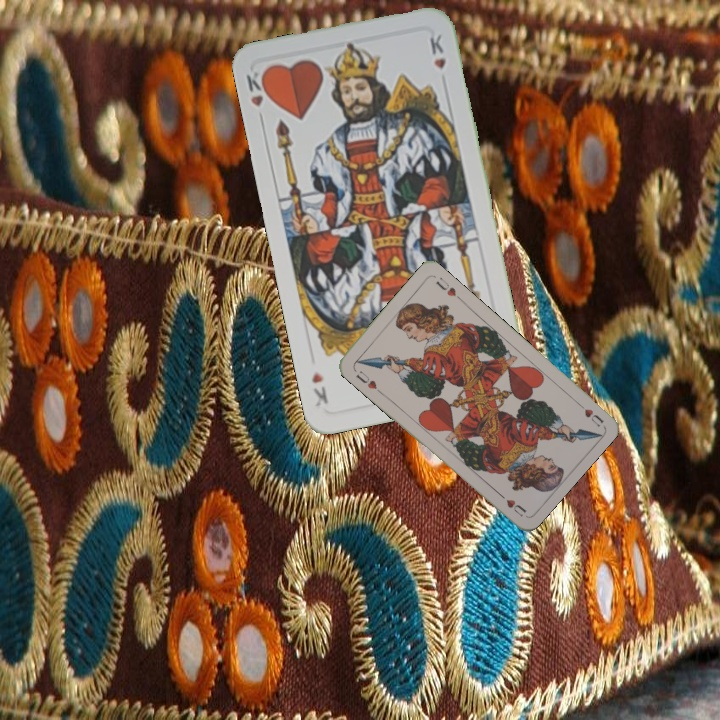HK: (242, 67, 273, 126)
HU: (572, 397, 606, 429), (352, 366, 379, 392)
